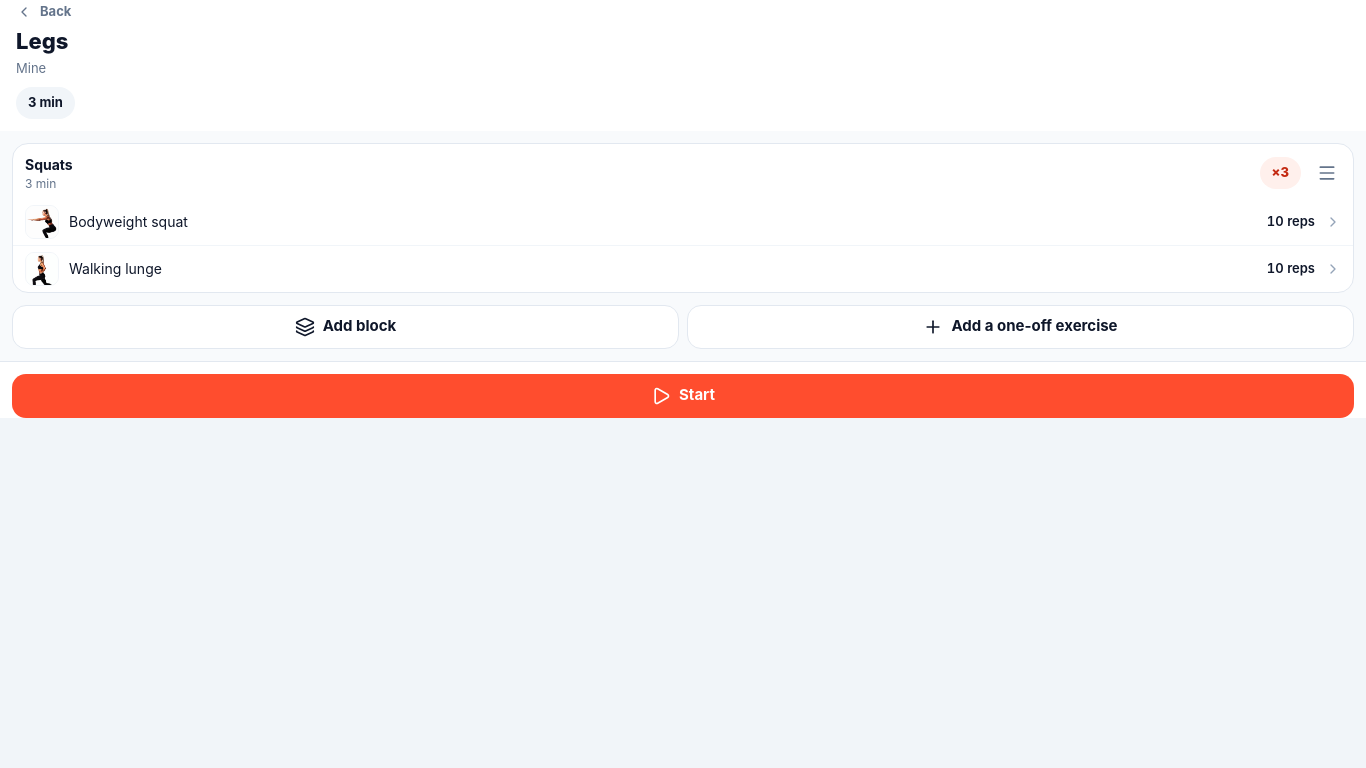
Test: the workout page reads plain; a tap on a block opens it for editing (Nick, 1 Nov 2026) › a tap on an exercise still opens it
This screenshot has width=1366, height=768.
Click the button "Bodyweight squat 10 reps". click: x=42, y=222
box: [13, 198, 1353, 244]
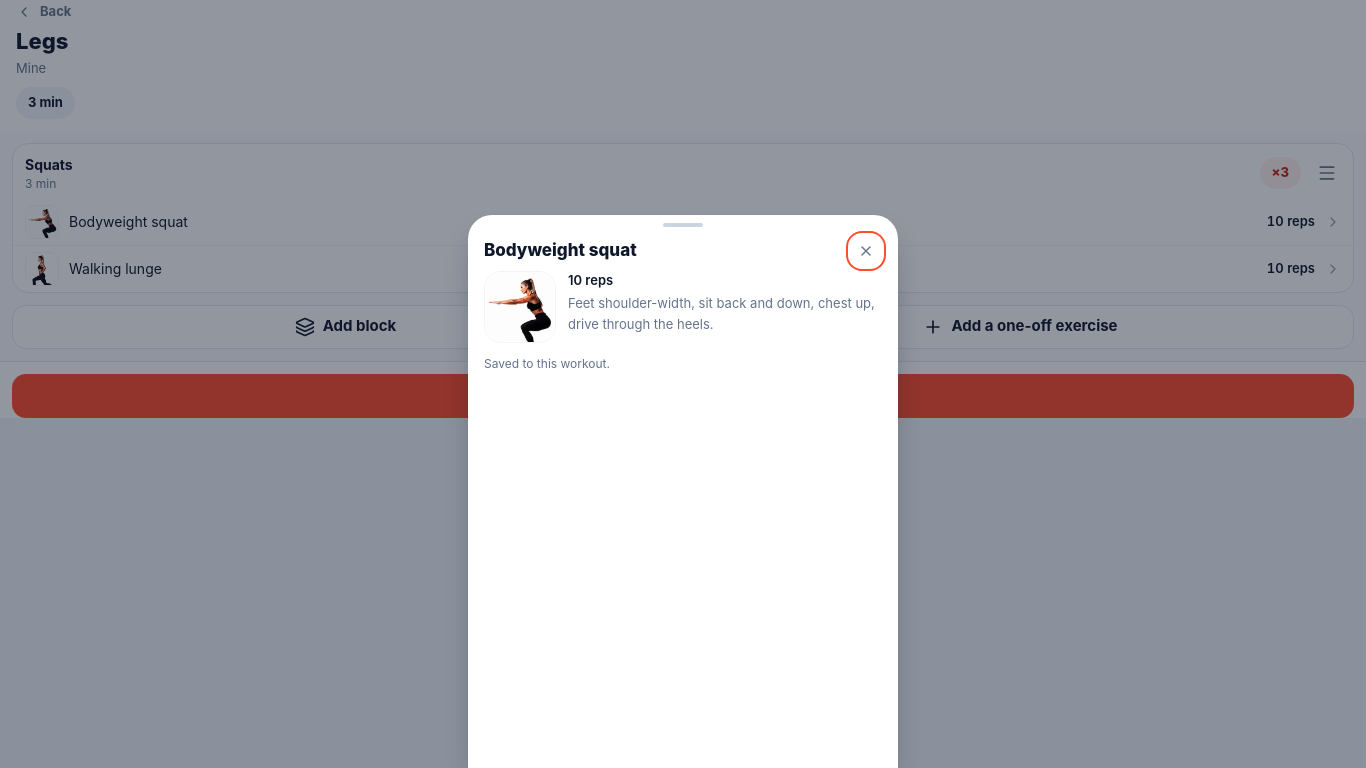
Result: the dialog "Bodyweight squat" is shown at [468, 215, 898, 767]
